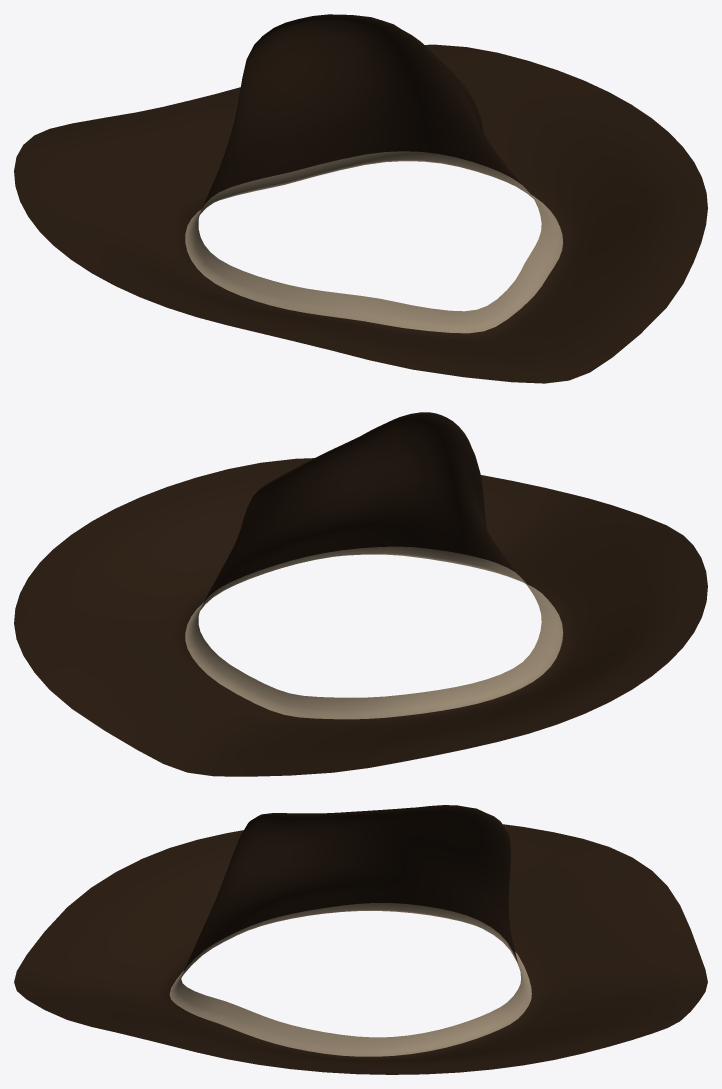
3 renders of one model, top to bottom at view 1: azimuth 30°, elevation 25°; view 2: azimuth 150°, elevation 25°; view 3: azimuth 270°, elevation 25°, orthographic. The views are drawn at different scales.
Parts seen in each view (by area): view 1: CowboyHat; view 2: CowboyHat; view 3: CowboyHat.
Part boxes in pixels (x1,y1,x2,y2): CowboyHat: [14, 14, 707, 383]; CowboyHat: [14, 412, 707, 776]; CowboyHat: [14, 805, 707, 1074].
Size of the model in its own units: 0.4669 by 0.1474 by 0.5317.
